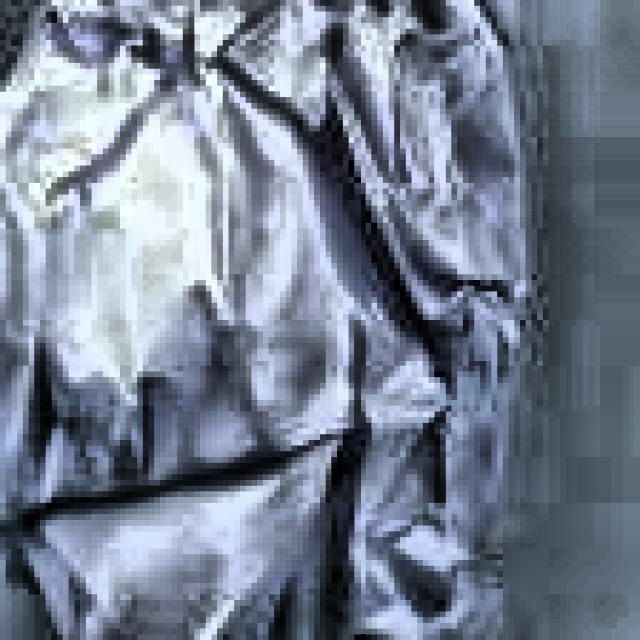paper: (0, 0, 536, 640)
